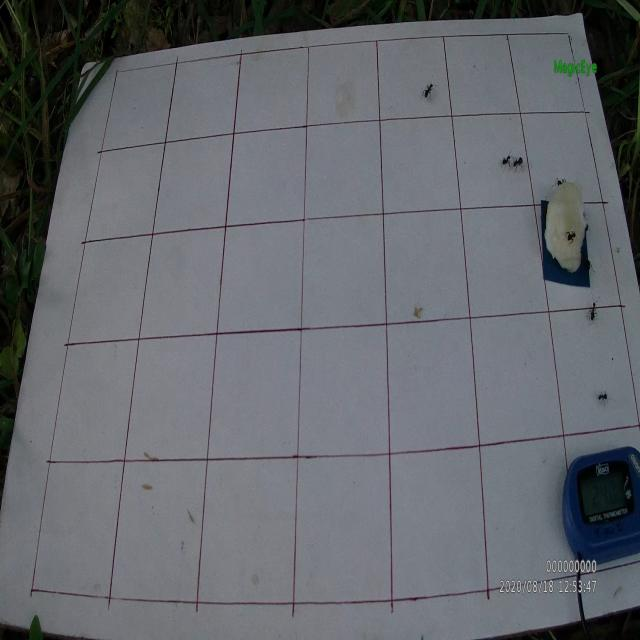Ant: (587, 292, 600, 325), (580, 248, 595, 274), (421, 81, 438, 101), (563, 228, 578, 247), (595, 389, 610, 408), (513, 153, 524, 174), (501, 150, 511, 172)
